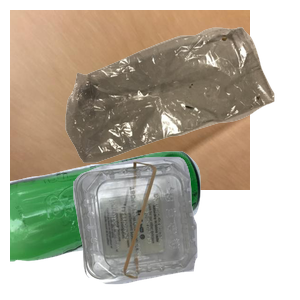cardboard: (10, 10, 250, 190)
glass: (10, 149, 203, 300)
plastic: (71, 154, 300, 300)
trash: (63, 24, 300, 179)
